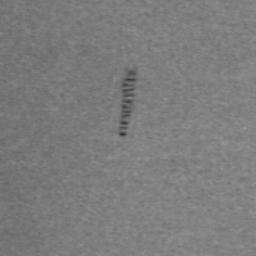Secondary rust skin: (118, 68, 138, 137)
